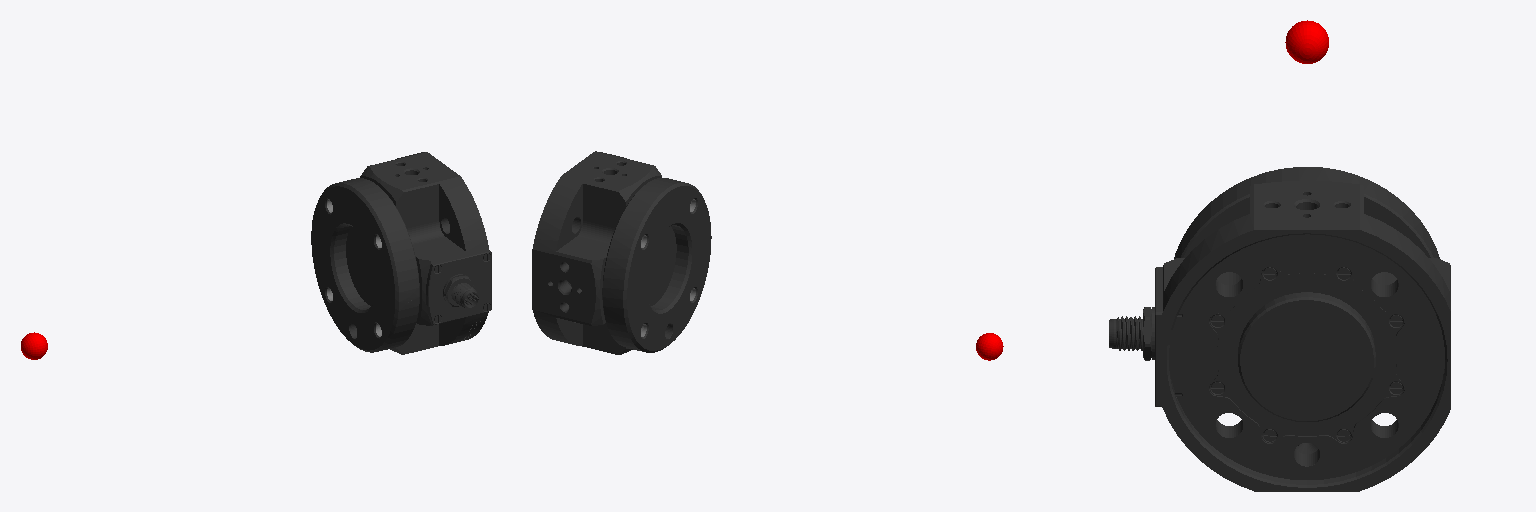
The robot description file, URDF, robot "panda":
<?xml version="1.0" ?>
<!-- =================================================================================== -->
<!-- |    This document was autogenerated by xacro from panda.urdf.xacro               | -->
<!-- |    EDITING THIS FILE BY HAND IS NOT RECOMMENDED                                 | -->
<!-- =================================================================================== -->
<robot name="panda">
  <!-- sub-link defining detailed ../meshes/panda for collision with environment -->
  <link name="panda_link0">
    <visual>
      <geometry>
        <mesh filename="../meshes/panda/link0.dae"/>
      </geometry>
    </visual>
  </link>
  <link name="panda_link1">
    <visual>
      <geometry>
        <mesh filename="../meshes/panda/link1.dae"/>
      </geometry>
    </visual>
  </link>
  <!-- sub-link defining coarse geometries of real robot's internal self-collision -->
  <!-- fixed joint between both sub-links -->
  <joint name="panda_joint1" type="revolute">
    <origin rpy="0 0 0" xyz="0 0 0.333"/>
    <parent link="panda_link0"/>
    <child link="panda_link1"/>
    <axis xyz="0 0 1"/>
    <limit effort="87.0" lower="-2.8973" upper="2.8973" velocity="2.175"/>
    <safety_controller k_position="100.0" k_velocity="40.0" soft_lower_limit="-2.8973" soft_upper_limit="2.8973"/>
  </joint>
  <!-- sub-link defining detailed ../meshes/panda for collision with environment -->
  <link name="panda_link2">
    <visual>
      <geometry>
        <mesh filename="../meshes/panda/link2.dae"/>
      </geometry>
    </visual>
  </link>
  <!-- sub-link defining coarse geometries of real robot's internal self-collision -->
  <joint name="panda_joint2" type="revolute">
    <origin rpy="-1.5707963267948966 0 0" xyz="0 0 0"/>
    <parent link="panda_link1"/>
    <child link="panda_link2"/>
    <axis xyz="0 0 1"/>
    <limit effort="87.0" lower="-1.7628" upper="1.7628" velocity="2.175"/>
    <safety_controller k_position="100.0" k_velocity="40.0" soft_lower_limit="-1.7628" soft_upper_limit="1.7628"/>
  </joint>
  <!-- sub-link defining detailed ../meshes/panda for collision with environment -->
  <link name="panda_link3">
    <visual>
      <geometry>
        <mesh filename="../meshes/panda/link3.dae"/>
      </geometry>
    </visual>
  </link>
  <!-- sub-link defining coarse geometries of real robot's internal self-collision -->
  <joint name="panda_joint3" type="revolute">
    <origin rpy="1.5707963267948966 0 0" xyz="0 -0.316 0"/>
    <parent link="panda_link2"/>
    <child link="panda_link3"/>
    <axis xyz="0 0 1"/>
    <limit effort="87.0" lower="-2.8973" upper="2.8973" velocity="2.175"/>
    <safety_controller k_position="100.0" k_velocity="40.0" soft_lower_limit="-2.8973" soft_upper_limit="2.8973"/>
  </joint>
  <!-- sub-link defining detailed ../meshes/panda for collision with environment -->
  <link name="panda_link4">
    <visual>
      <geometry>
        <mesh filename="../meshes/panda/link4.dae"/>
      </geometry>
    </visual>
  </link>
  <!-- sub-link defining coarse geometries of real robot's internal self-collision -->
  <joint name="panda_joint4" type="revolute">
    <origin rpy="1.5707963267948966 0 0" xyz="0.0825 0 0"/>
    <parent link="panda_link3"/>
    <child link="panda_link4"/>
    <axis xyz="0 0 1"/>
    <limit effort="87.0" lower="-3.0718" upper="-0.0698" velocity="2.175"/>
    <safety_controller k_position="100.0" k_velocity="40.0" soft_lower_limit="-3.0718" soft_upper_limit="-0.0698"/>
  </joint>
  <!-- sub-link defining detailed ../meshes/panda for collision with environment -->
  <link name="panda_link5">
    <visual>
      <geometry>
        <mesh filename="../meshes/panda/link5.dae"/>
      </geometry>
    </visual>
  </link>
  <!-- sub-link defining coarse geometries of real robot's internal self-collision -->
  <joint name="panda_joint5" type="revolute">
    <origin rpy="-1.5707963267948966 0 0" xyz="-0.0825 0.384 0"/>
    <parent link="panda_link4"/>
    <child link="panda_link5"/>
    <axis xyz="0 0 1"/>
    <limit effort="12.0" lower="-2.8973" upper="2.8973" velocity="2.61"/>
    <safety_controller k_position="100.0" k_velocity="40.0" soft_lower_limit="-2.8973" soft_upper_limit="2.8973"/>
  </joint>
  <!-- sub-link defining detailed ../meshes/panda for collision with environment -->
  <link name="panda_link6">
    <visual>
      <geometry>
        <mesh filename="../meshes/panda/link6.dae"/>
      </geometry>
    </visual>
  </link>
  <!-- sub-link defining coarse geometries of real robot's internal self-collision -->
  <joint name="panda_joint6" type="revolute">
    <origin rpy="1.5707963267948966 0 0" xyz="0 0 0"/>
    <parent link="panda_link5"/>
    <child link="panda_link6"/>
    <axis xyz="0 0 1"/>
    <limit effort="12.0" lower="-0.0175" upper="3.7525" velocity="2.61"/>
    <safety_controller k_position="100.0" k_velocity="40.0" soft_lower_limit="-0.0175" soft_upper_limit="3.7525"/>
  </joint>
  <!-- sub-link defining detailed ../meshes/panda for collision with environment -->
  <link name="panda_link7">
    <visual>
      <geometry>
        <mesh filename="../meshes/panda/link7.dae"/>
      </geometry>
    </visual>
  </link>
  <!-- sub-link defining coarse geometries of real robot's internal self-collision -->
  <joint name="panda_joint7" type="revolute">
    <origin rpy="1.5707963267948966 0 0" xyz="0.088 0 0"/>
    <parent link="panda_link6"/>
    <child link="panda_link7"/>
    <axis xyz="0 0 1"/>
    <limit effort="12.0" lower="-2.8973" upper="2.8973" velocity="2.61"/>
    <safety_controller k_position="100.0" k_velocity="40.0" soft_lower_limit="-2.8973" soft_upper_limit="2.8973"/>
  </joint>

  <link name="panda_link8"/>
  <joint name="panda_joint8" type="fixed">
    <origin rpy="0 0 0" xyz="0 0 0.107"/>
    <parent link="panda_link7"/>
    <child link="panda_link8"/>
  </joint>

  <link name="bota_sensor_link">
    <visual>
      <geometry>
        <mesh filename="../meshes/bota/SensONE.dae"/>
      </geometry>
    </visual>
  </link>

  <joint name="bota_sensor_joint" type="fixed">
    <parent link="panda_link8"/>
    <child link="bota_sensor_link"/>
    <origin rpy="0 0 0" xyz="0 0 0.038"/>
  </joint>
  
  <joint name="panda_hand_joint" type="fixed">
    <parent link="bota_sensor_link"/>
    <child link="panda_hand"/>
    <origin rpy="0 0 -0.7853981633974483" xyz="0 0 0"/>
  </joint>
  <!-- sub-link defining detailed ../meshes/panda for collision with environment -->


  <link name="panda_hand">
    <visual>
      <geometry>
        <mesh filename="../meshes/panda/hand.dae"/>
      </geometry>
    </visual>
  </link>
  <link name="panda_hand_tcp"/>
  <joint name="panda_hand_tcp_joint" type="fixed">
    <origin rpy="0 0 0" xyz="0 0 0.1034"/>
    <parent link="panda_hand"/>
    <child link="panda_hand_tcp"/>
  </joint>
  <link name="ball_link">
    <visual>
      <material name="red">
        <color rgba="1 0 0 1"/>
      </material>

      <geometry>
        <sphere radius="0.005"/>
      </geometry>
    </visual>
  </link>

  <joint name="ball_joint" type="fixed">
    <origin rpy="0.0 0.0 0.0" xyz="7.773732033005863e-05 -4.214022515884392e-05 0.030128297908475325" />
    <parent link="panda_hand_tcp"/>
    <child link="ball_link"/>
  </joint>
  <link name="panda_leftfinger">
    <visual>
      <geometry>
        <mesh filename="../meshes/panda/finger.dae"/>
      </geometry>
    </visual>
  </link>
  <link name="panda_rightfinger">
    <visual>
      <origin rpy="0 0 3.141592653589793" xyz="0 0 0"/>
      <geometry>
        <mesh filename="../meshes/panda/finger.dae"/>
      </geometry>
    </visual>
  </link>

    <joint name="panda_finger_joint1" type="prismatic">
    <parent link="panda_hand" />
    <child link="panda_leftfinger" />
    <origin rpy="0 0 0" xyz="0 0 0.0584" />
    <axis xyz="0 1 0" />
    <limit effort="100" lower="0.0" upper="0.04" velocity="0.2" />
    <dynamics damping="0.3" />
  </joint>
  <joint name="panda_finger_joint2" type="prismatic">
    <parent link="panda_hand" />
    <child link="panda_rightfinger" />
    <origin rpy="0 0 0" xyz="0 0 0.0584" />
    <axis xyz="0 -1 0" />
    <limit effort="100" lower="0.0" upper="0.04" velocity="0.2" />
    <mimic joint="panda_finger_joint1" />
    <dynamics damping="0.3" />
  </joint>
</robot>

--- Facts derived from the render (not from the file) ---
Views: 3 orthographic renders of the robot side by side, from view 1: azimuth 30°, elevation 25°; view 2: azimuth 150°, elevation 25°; view 3: azimuth 270°, elevation 25°.
Robot: panda — 15 links, 14 joints (7 revolute, 2 prismatic, 5 fixed); root link panda_link0; default pose: all joints at 0 but 1 set to mid-range because 0 is outside their limits (panda_joint4 = -1.57).
Links seen in each view (by area): view 1: bota_sensor_link, ball_link; view 2: bota_sensor_link, ball_link; view 3: bota_sensor_link, ball_link.
Boxes of the visible links, left/top/right/bottom form: bota_sensor_link: left=311, top=152, right=491, bottom=354; ball_link: left=21, top=332, right=47, bottom=359; bota_sensor_link: left=532, top=151, right=711, bottom=354; ball_link: left=976, top=333, right=1003, bottom=360; bota_sensor_link: left=1109, top=167, right=1450, bottom=491; ball_link: left=1285, top=20, right=1328, bottom=63.
Size in the robot's own frame: 0.1765 by 0.0781 by 0.0658 metres.
1 mesh visuals loaded from 11 distinct referenced files (1 Collada DAE); not drawn: 11 (reference not matched to a file when rendering).